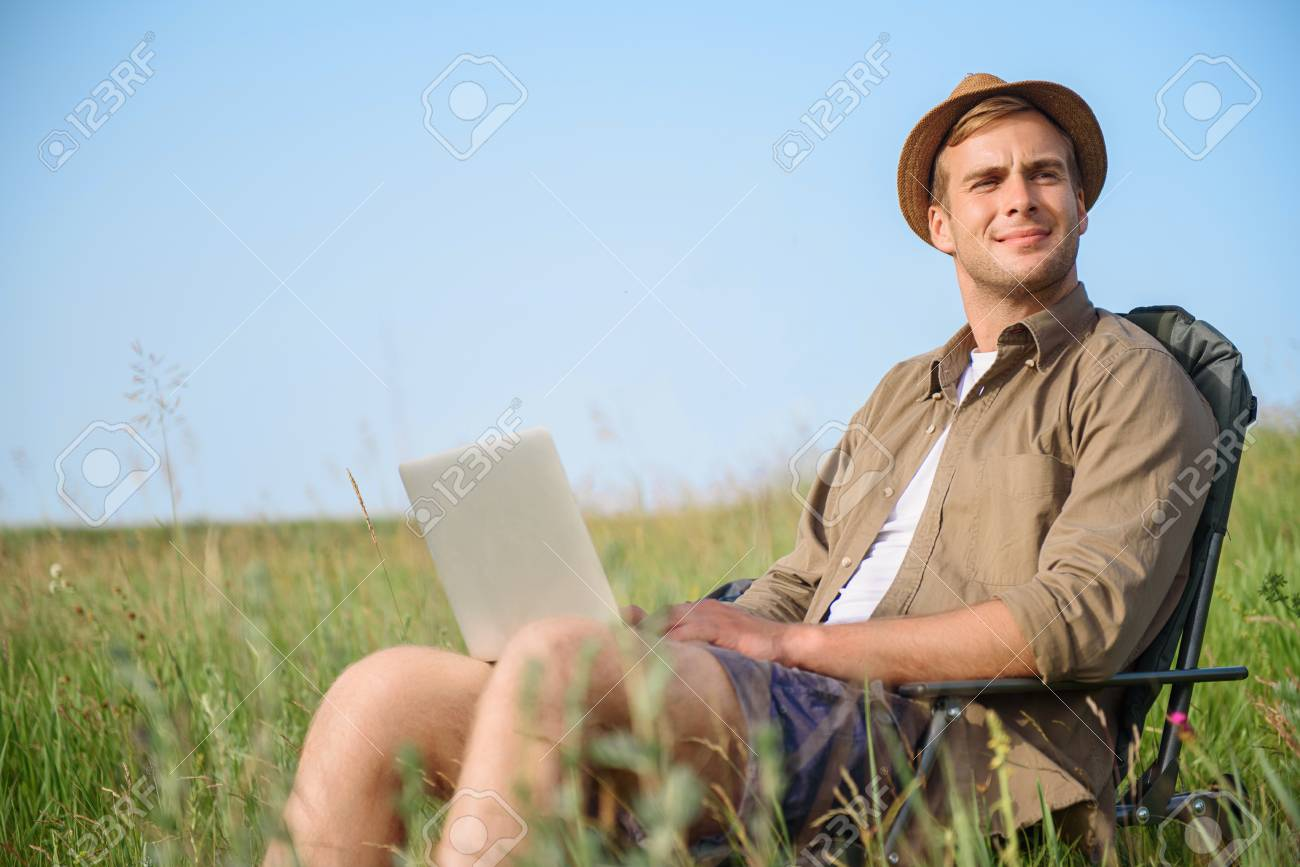distracted: (883, 49, 1126, 318)
